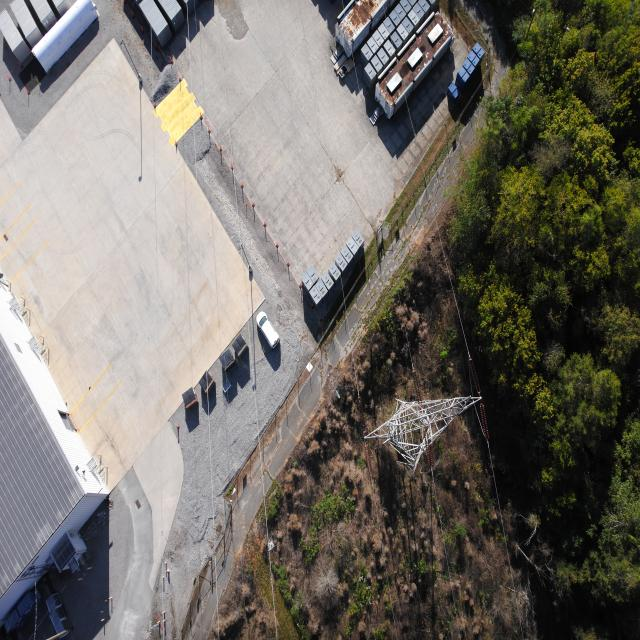Area of Interest: (467, 9, 636, 588)
